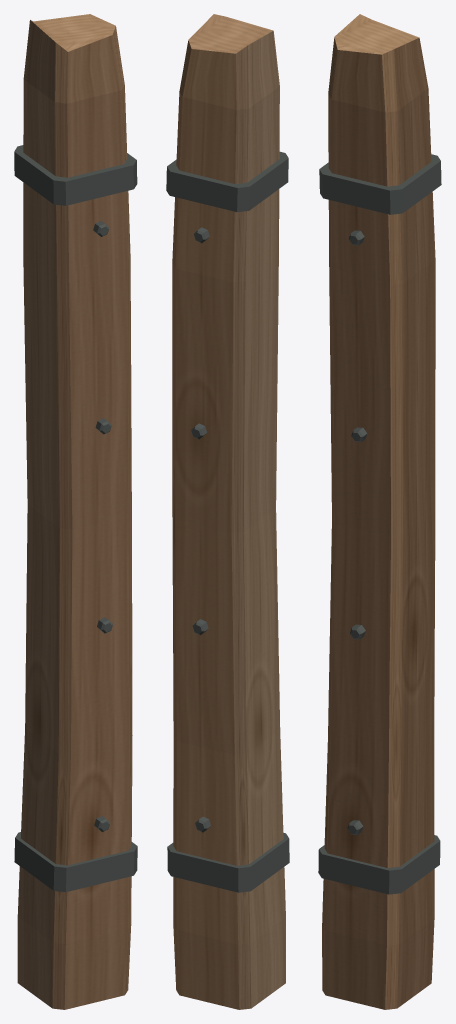
File: fence_post_03.glb
The picture shows the model from 3 angles, left to right: view 1: azimuth 30°, elevation 25°; view 2: azimuth 150°, elevation 25°; view 3: azimuth 330°, elevation 25°; orthographic projection.
Visible parts, largest first — view 1: TileDecorationFencePost03; view 2: TileDecorationFencePost03; view 3: TileDecorationFencePost03.
Part boxes in pixels (left/top/right/bottom): TileDecorationFencePost03: left=14, top=14, right=137, bottom=1009; TileDecorationFencePost03: left=166, top=14, right=289, bottom=1009; TileDecorationFencePost03: left=318, top=14, right=441, bottom=1009.
Bounding box in the file's own units: 0.0868 × 0.95 × 0.1024.
2 materials, 1 textured.
